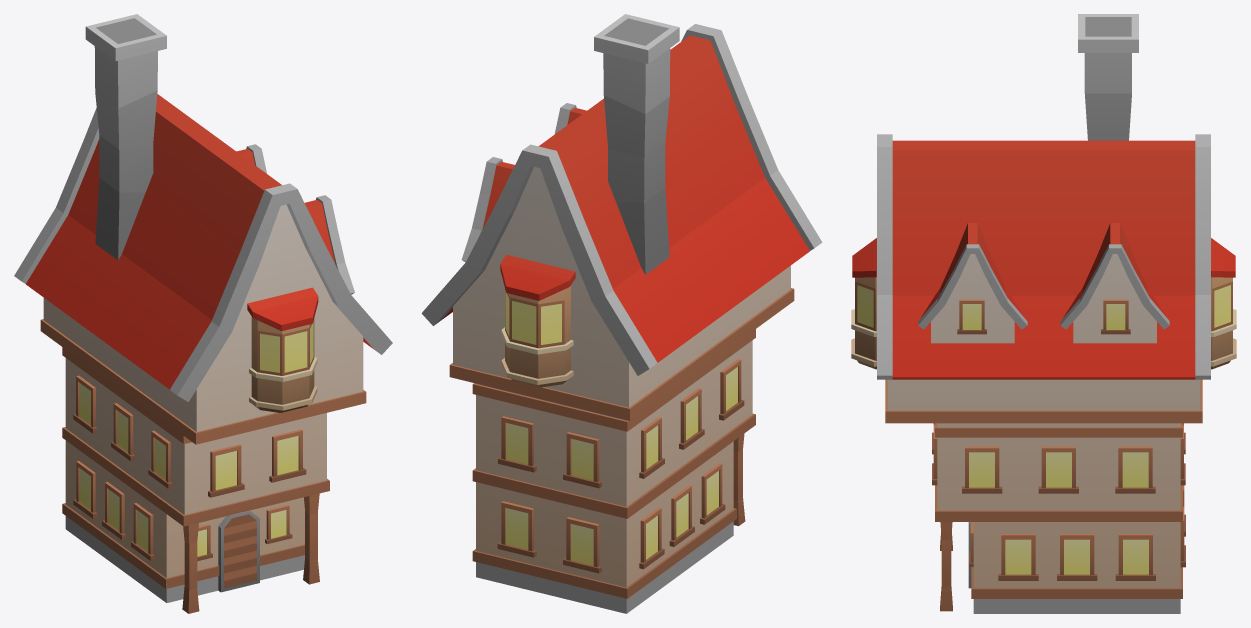
File: trading-house.glb
3 renders of one model, left to right at view 1: azimuth 30°, elevation 25°; view 2: azimuth 150°, elevation 25°; view 3: azimuth 270°, elevation 25°, orthographic. The views are drawn at different scales.
Visible parts, largest first — view 1: trading house; view 2: trading house; view 3: trading house.
Boxes of the visible parts, x1=… form: trading house: x1=14, y1=14, x2=392, y2=613; trading house: x1=421, y1=14, x2=822, y2=613; trading house: x1=851, y1=14, x2=1236, y2=613.
Size of the model in its own units: 6.07 by 13.92 by 9.19.
1 material, 1 textured.
